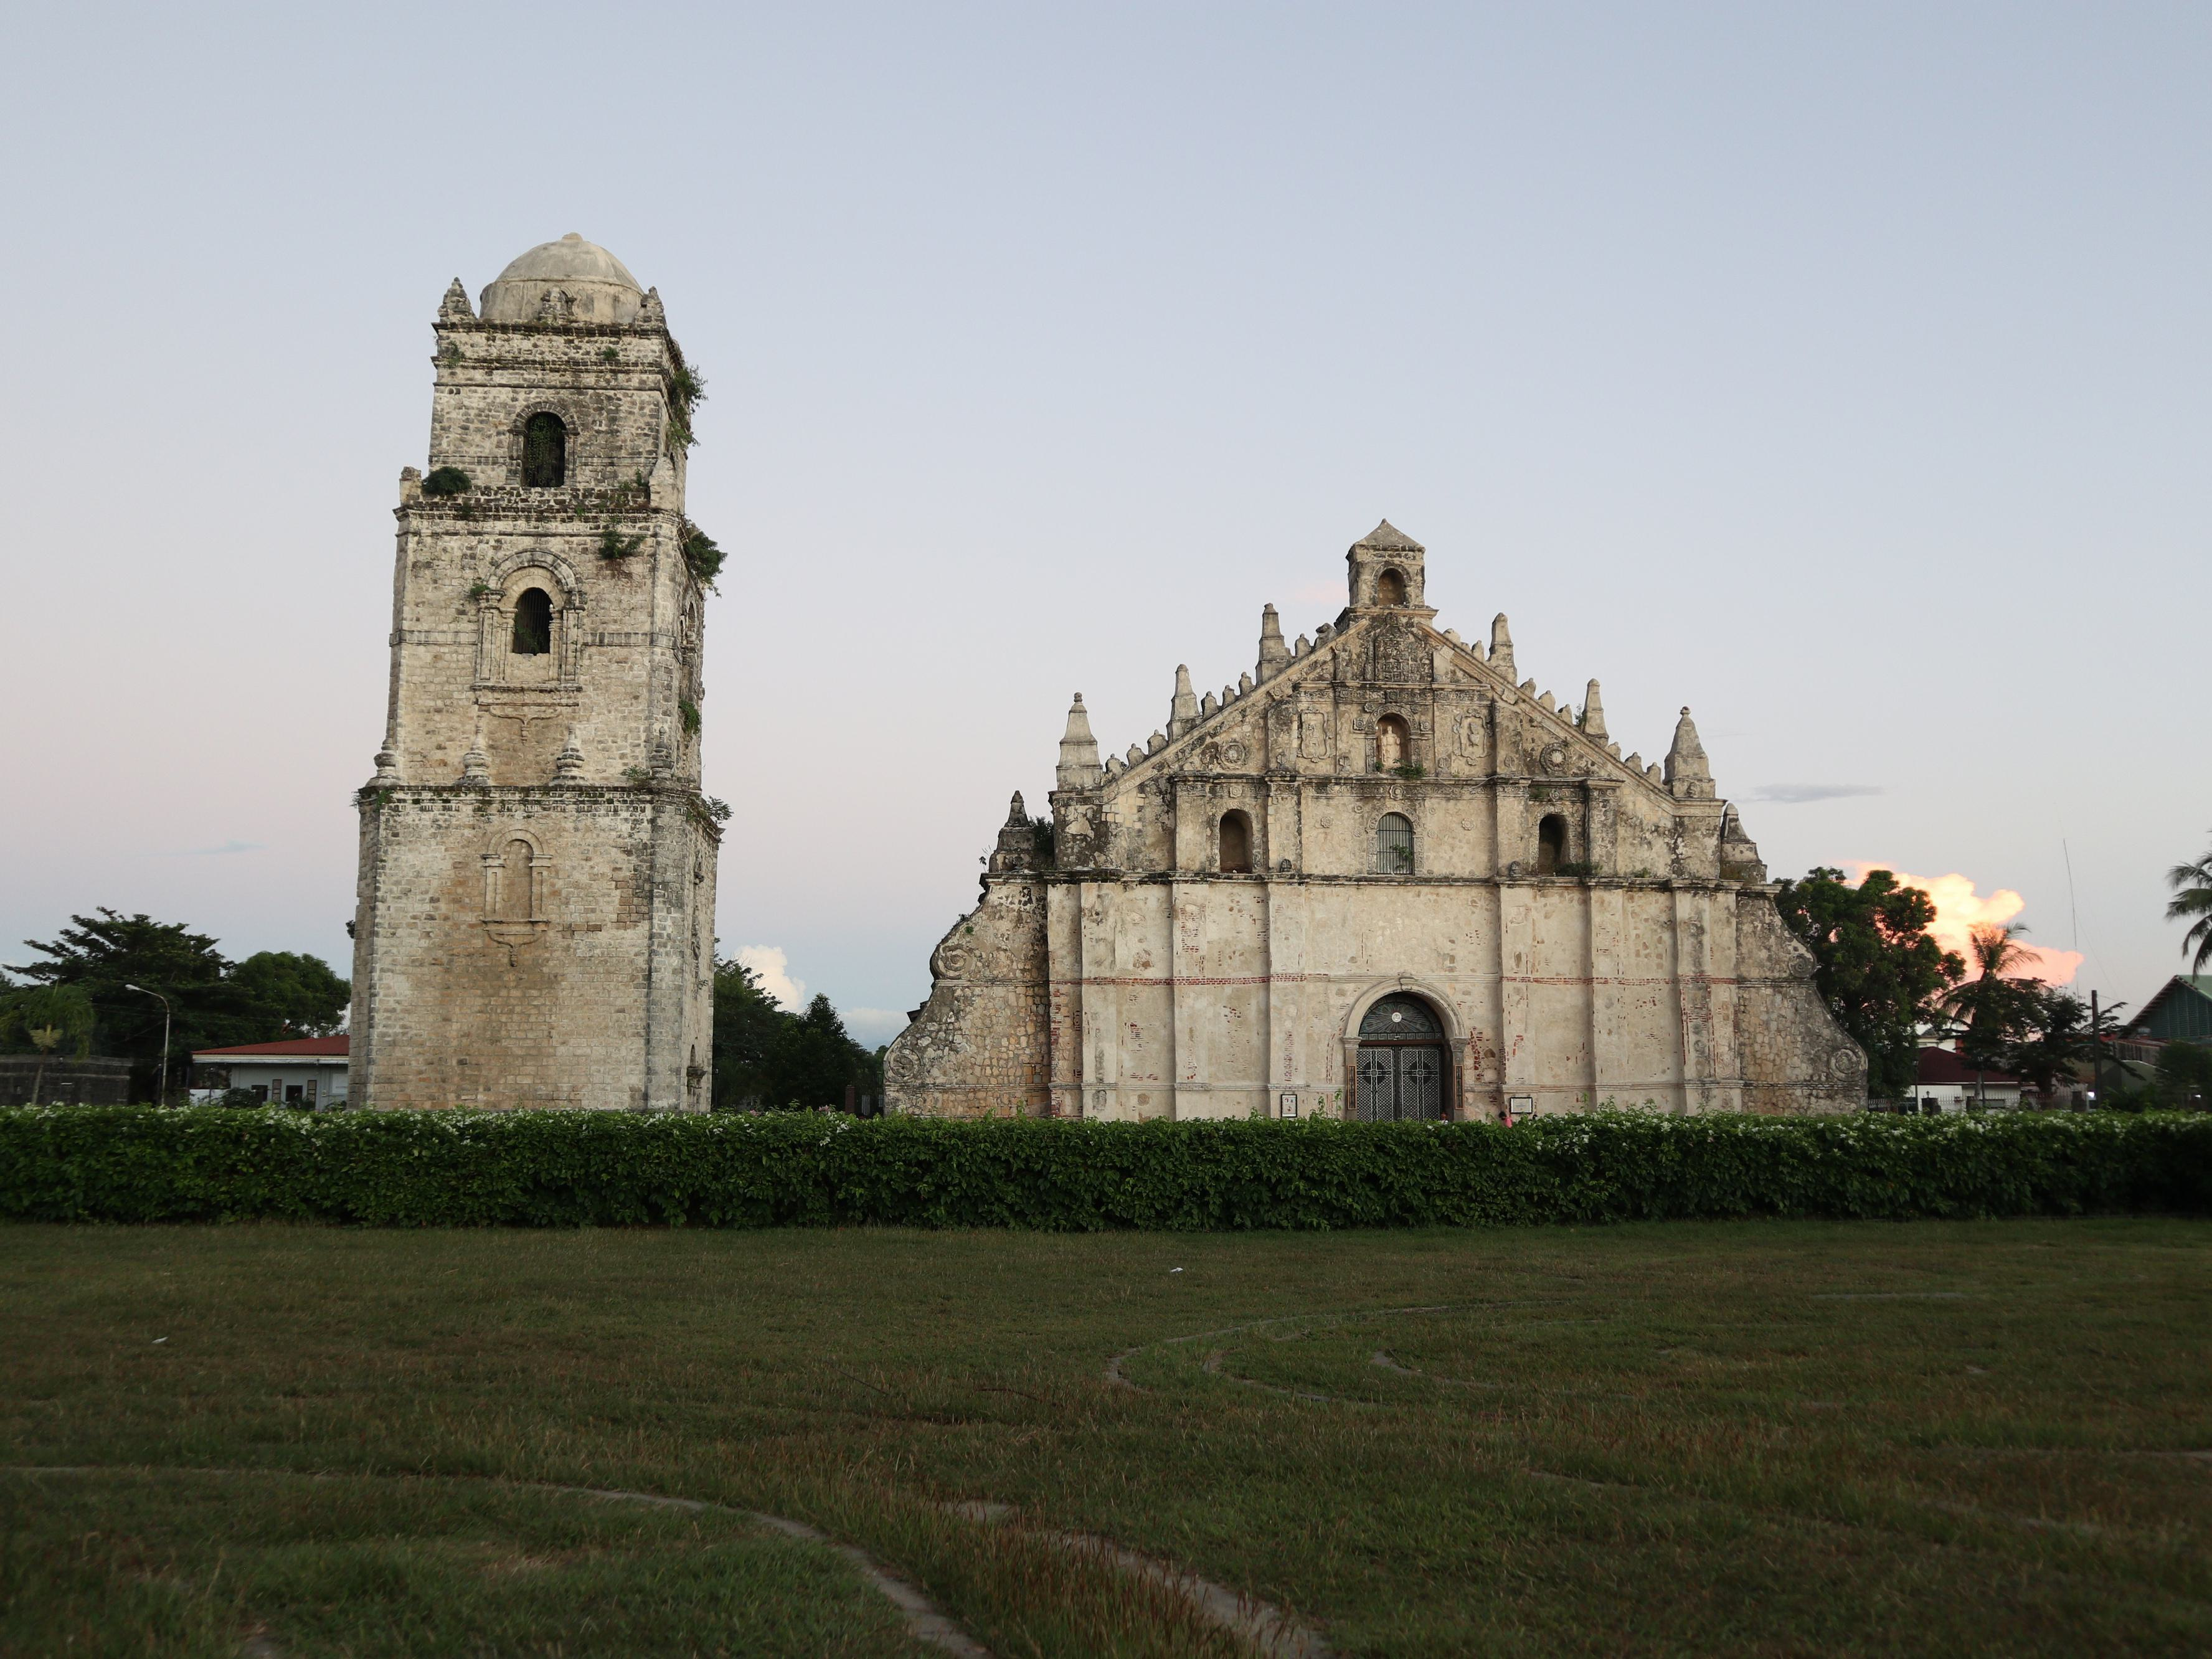paoay_church_paoay_ilocos_norte: (333, 206, 1883, 1148)
vegetation_damage: (671, 514, 738, 599), (658, 349, 721, 439), (409, 457, 479, 507)
